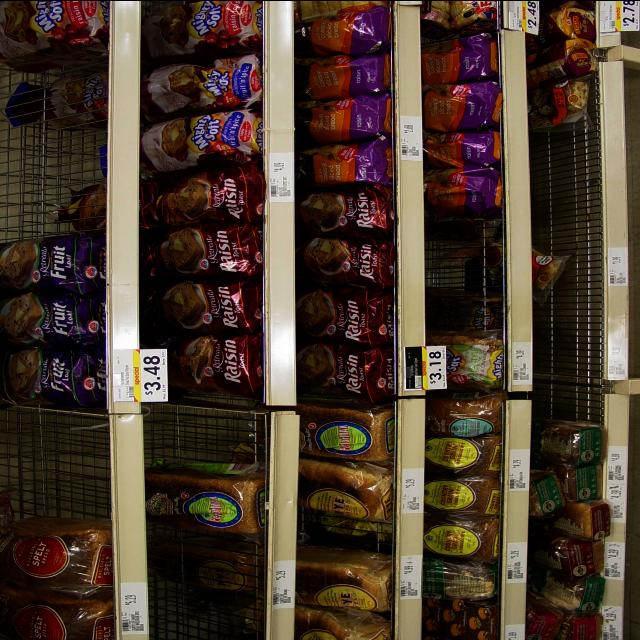empty_space: (544, 137, 604, 403), (21, 61, 103, 227), (156, 535, 256, 633), (13, 416, 103, 508), (434, 225, 502, 321), (157, 402, 255, 450)
